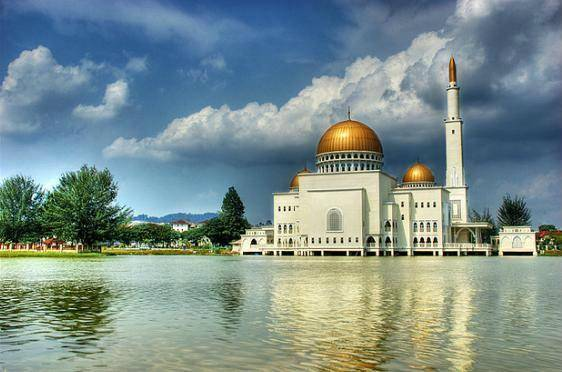Mosque: (249, 58, 472, 252)
